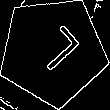L_SW: (25, 23, 82, 80)
